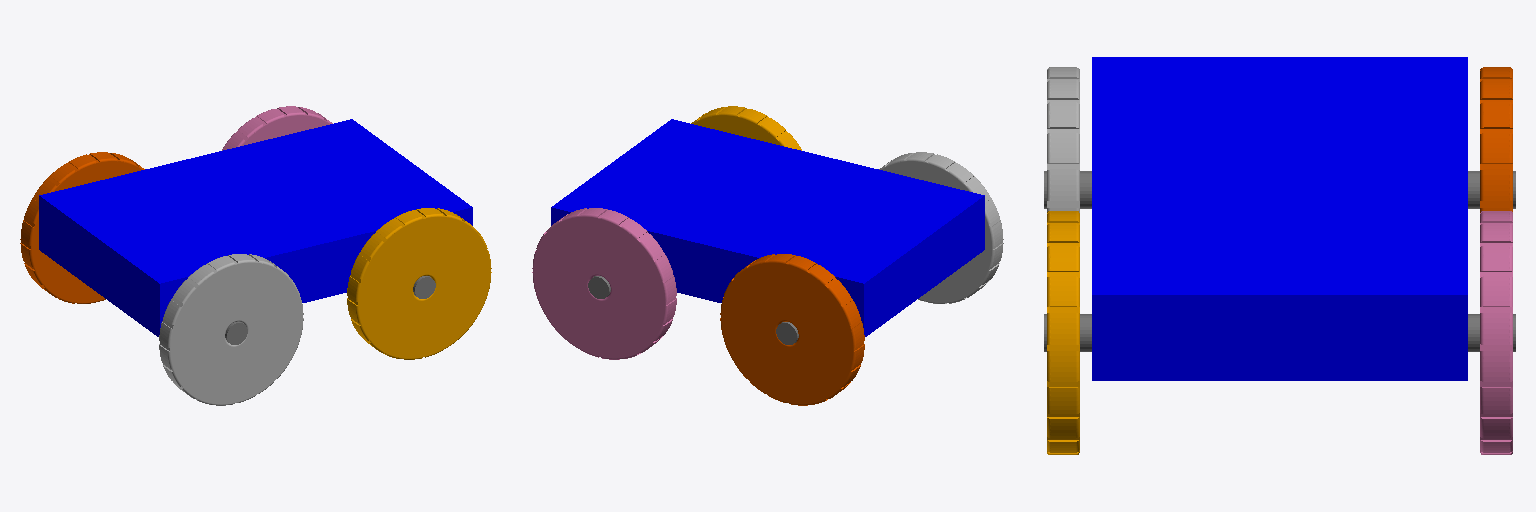
robot.urdf — farad_amr:
<?xml version="1.0"?>
<robot name="farad_amr">

<!-- Base link (chassis) -->
<link name="base_link">
<visual>
<geometry>
<box size="0.6 0.4 0.1"/>
</geometry>
<material name="blue">
<color rgba="0 0 1 1"/>
</material>
</visual>
<collision>
<geometry>
<box size="0.6 0.4 0.1"/>
</geometry>
</collision>
<inertial>
<mass value="10.0"/>
<inertia ixx="0.1" ixy="0.0" ixz="0.0" iyy="0.1" iyz="0.0" izz="0.1"/>
</inertial>
</link>




<!-- Left front shaft -->
<link name="left_front_shaft">
<visual>
<geometry>
<cylinder radius="0.02" length="0.10"/>
</geometry>
<origin xyz="0 0 0" rpy="1.5708 0 0"/>
<material name="gray">
<color rgba="0.5 0.5 0.5 1"/>
</material>
</visual>
<collision>
<geometry>
<cylinder radius="0.02" length="0.10"/>
</geometry>
<origin xyz="0 0 0" rpy="1.5708 0 0"/>
</collision>
<inertial>
<mass value="0.2"/>
<inertia ixx="0.01" ixy="0.0" ixz="0.0" iyy="0.01" iyz="0.0" izz="0.01"/>
</inertial>
</link>

<!-- Left rear shaft -->
<link name="left_rear_shaft">
<visual>
<geometry>
<cylinder radius="0.02" length="0.10"/>
</geometry>
<origin xyz="0 0 0" rpy="1.5708 0 0"/>
<material name="gray">
<color rgba="0.5 0.5 0.5 1"/>
</material>
</visual>
<collision>
<geometry>
<cylinder radius="0.02" length="0.10"/>
</geometry>
<origin xyz="0 0 0" rpy="1.5708 0 0"/>
</collision>
<inertial>
<mass value="0.2"/>
<inertia ixx="0.01" ixy="0.0" ixz="0.0" iyy="0.01" iyz="0.0" izz="0.01"/>
</inertial>
</link>

<!-- Right front shaft -->
<link name="right_front_shaft">
<visual>
<geometry>
<cylinder radius="0.02" length="0.10"/>
</geometry>
<origin xyz="0 0 0" rpy="1.5708 0 0"/>
<material name="gray">
<color rgba="0.5 0.5 0.5 1"/>
</material>
</visual>
<collision>
<geometry>
<cylinder radius="0.02" length="0.10"/>
</geometry>
<origin xyz="0 0 0" rpy="1.5708 0 0"/>
</collision>
<inertial>
<mass value="0.2"/>
<inertia ixx="0.01" ixy="0.0" ixz="0.0" iyy="0.01" iyz="0.0" izz="0.01"/>
</inertial>
</link>

<!-- Right rear shaft -->
<link name="right_rear_shaft">
<visual>
<geometry>
<cylinder radius="0.02" length="0.10"/>
</geometry>
<origin xyz="0 0 0" rpy="1.5708 0 0"/>
<material name="gray">
<color rgba="0.5 0.5 0.5 1"/>
</material>
</visual>
<collision>
<geometry>
<cylinder radius="0.02" length="0.10"/>
</geometry>
<origin xyz="0 0 0" rpy="1.5708 0 0"/>
</collision>
<inertial>
<mass value="0.2"/>
<inertia ixx="0.01" ixy="0.0" ixz="0.0" iyy="0.01" iyz="0.0" izz="0.01"/>
</inertial>
</link>



<!-- ================= TIRES (MESH) ================= -->

<!-- Left front tire (aligned with shaft, at +Y end) -->
<link name="left_front_tire">
	<inertial>
		<origin xyz="0 0 0"/>
		<mass value="1.0"/>
		<inertia ixx="0.02" iyy="0.02" izz="0.02" ixy="0" ixz="0" iyz="0"/>
	</inertial>
	<visual>
		<origin xyz="0 0.03 0" rpy="1.5708 0 0"/>
		<geometry>
			<mesh filename="tire.stl" scale="0.001 0.001 0.001"/>
		</geometry>
	</visual>
	<collision>
		<origin xyz="0 0.03 0" rpy="1.5708 0 0"/>
		<geometry>
			<mesh filename="tire.stl" scale="0.001 0.001 0.001"/>
		</geometry>
	</collision>
</link>

<!-- Left rear tire (aligned with shaft, at +Y end) -->
<link name="left_rear_tire">
	<inertial>
		<origin xyz="0 0 0"/>
		<mass value="1.0"/>
		<inertia ixx="0.02" iyy="0.02" izz="0.02" ixy="0" ixz="0" iyz="0"/>
	</inertial>
	<visual>
		<origin xyz="0 0.03 0" rpy="1.5708 0 0"/>
		<geometry>
			<mesh filename="tire.stl" scale="0.001 0.001 0.001"/>
		</geometry>
	</visual>
	<collision>
		<origin xyz="0 0.03 0" rpy="1.5708 0 0"/>
		<geometry>
			<mesh filename="tire.stl" scale="0.001 0.001 0.001"/>
		</geometry>
	</collision>
</link>

<!-- Right front tire (aligned with shaft, at +Y end) -->
<link name="right_front_tire">
	<inertial>
		<origin xyz="0 0 0"/>
		<mass value="1.0"/>
		<inertia ixx="0.02" iyy="0.02" izz="0.02" ixy="0" ixz="0" iyz="0"/>
	</inertial>
	<visual>
		<origin xyz="0 -0.03 0" rpy="1.5708 0 0"/>
		<geometry>
			<mesh filename="tire.stl" scale="0.001 0.001 0.001"/>
		</geometry>
	</visual>
	<collision>
		<origin xyz="0 -0.03 0" rpy="1.5708 0 0"/>
		<geometry>
			<mesh filename="tire.stl" scale="0.001 0.001 0.001"/>
		</geometry>
	</collision>
</link>

<!-- Right rear tire (aligned with shaft, at +Y end) -->
<link name="right_rear_tire">
	<inertial>
		<origin xyz="0 0 0"/>
		<mass value="1.0"/>
		<inertia ixx="0.02" iyy="0.02" izz="0.02" ixy="0" ixz="0" iyz="0"/>
	</inertial>
	<visual>
		<origin xyz="0 -0.03 0" rpy="1.5708 0 0"/>
		<geometry>
			<mesh filename="tire.stl" scale="0.001 0.001 0.001"/>
		</geometry>
	</visual>
	<collision>
		<origin xyz="0 -0.03 0" rpy="1.5708 0 0"/>
		<geometry>
			<mesh filename="tire.stl" scale="0.001 0.001 0.001"/>
		</geometry>
	</collision>
</link>



<!-- ================= SHAFTS AND TIRES ASSEMBLY ================= -->

<!-- Left front shaft (front left corner) -->
<joint name="base_link_to_left_front_shaft" type="fixed">
	<parent link="base_link"/>
	<child link="left_front_shaft"/>
	<origin xyz="-0.18 0.2 -0.05" rpy="0 0 0"/>
</joint>

<!-- Attach left front tire to shaft with continuous joint (rotates freely) -->
<joint name="left_front_shaft_to_tire" type="continuous">
	<parent link="left_front_shaft"/>
	<child link="left_front_tire"/>
	<!-- Tire is placed at end of shaft, so no offset needed -->
	<origin xyz="0 0 0" rpy="0 0 0"/>
	<axis xyz="0 1 0"/>
</joint>

<!-- Left rear shaft (rear left corner) -->
<joint name="base_link_to_left_rear_shaft" type="fixed">
	<parent link="base_link"/>
	<child link="left_rear_shaft"/>
	<origin xyz="0.18 0.2 -0.05" rpy="0 0 0"/>
</joint>

<!-- Attach left rear tire to shaft with continuous joint -->
<joint name="left_rear_shaft_to_tire" type="continuous">
	<parent link="left_rear_shaft"/>
	<child link="left_rear_tire"/>
	<origin xyz="0 0 0" rpy="0 0 0"/>
	<axis xyz="0 1 0"/>
</joint>

<!-- Right front shaft (front right corner) -->
<joint name="base_link_to_right_front_shaft" type="fixed">
	<parent link="base_link"/>
	<child link="right_front_shaft"/>
	<origin xyz="-0.18 -0.2 -0.05" rpy="0 0 0"/>
</joint>

<!-- Attach right front tire to shaft with continuous joint -->
<joint name="right_front_shaft_to_tire" type="continuous">
	<parent link="right_front_shaft"/>
	<child link="right_front_tire"/>
	<origin xyz="0 0 0" rpy="0 0 0"/>
	<axis xyz="0 1 0"/>
</joint>

<!-- Right rear shaft (rear right corner) -->
<joint name="base_link_to_right_rear_shaft" type="fixed">
	<parent link="base_link"/>
	<child link="right_rear_shaft"/>
	<origin xyz="0.18 -0.2 -0.05" rpy="0 0 0"/>
</joint>

<!-- Attach right rear tire to shaft with continuous joint -->
<joint name="right_rear_shaft_to_tire" type="continuous">
	<parent link="right_rear_shaft"/>
	<child link="right_rear_tire"/>
	<origin xyz="0 0 0" rpy="0 0 0"/>
	<axis xyz="0 1 0"/>
</joint>

</robot>

--- What the picture shows (computed from the rendered views, not written in the file) ---
The picture shows the robot from 3 angles, left to right: view 1: azimuth 30°, elevation 25°; view 2: azimuth 150°, elevation 25°; view 3: azimuth 270°, elevation 25°; orthographic projection.
Model farad_amr with 9 links and 8 joints (4 continuous, 4 fixed), rooted at base_link, posed all joints at 0.
Visible links, largest first — view 1: base_link, right_front_tire, right_rear_tire, left_front_tire, left_rear_tire; view 2: base_link, left_front_tire, left_rear_tire, right_front_tire, right_rear_tire; view 3: base_link, left_rear_tire, right_rear_tire, left_front_tire, right_front_tire, left_front_shaft, left_rear_shaft, right_front_shaft, right_rear_shaft.
Boxes of the visible links, x1,y1,x2,y2 form: base_link: (39, 119, 472, 336); right_front_tire: (159, 254, 303, 405); right_rear_tire: (347, 208, 491, 359); left_front_tire: (20, 152, 144, 303); left_rear_tire: (222, 106, 332, 150); base_link: (551, 119, 984, 336); left_front_tire: (720, 254, 864, 405); left_rear_tire: (532, 208, 676, 359); right_front_tire: (879, 152, 1003, 303); right_rear_tire: (691, 106, 801, 150); base_link: (1092, 57, 1467, 380); left_rear_tire: (1480, 211, 1512, 454); right_rear_tire: (1047, 211, 1079, 454); left_front_tire: (1480, 67, 1512, 212); right_front_tire: (1047, 67, 1079, 212); left_front_shaft: (1468, 171, 1515, 208); left_rear_shaft: (1468, 314, 1515, 351); right_front_shaft: (1044, 171, 1091, 208); right_rear_shaft: (1044, 314, 1091, 351).
Bounding box of the posed robot: 0.6199 × 0.5 × 0.2599 m (x, y, z).
4 mesh visuals loaded from 1 distinct referenced files (1 binary STL).
